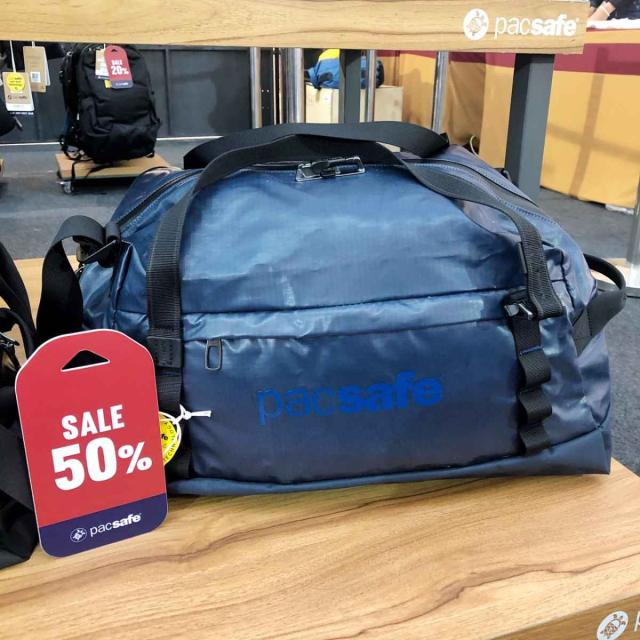Handbag: (67, 124, 625, 520)
